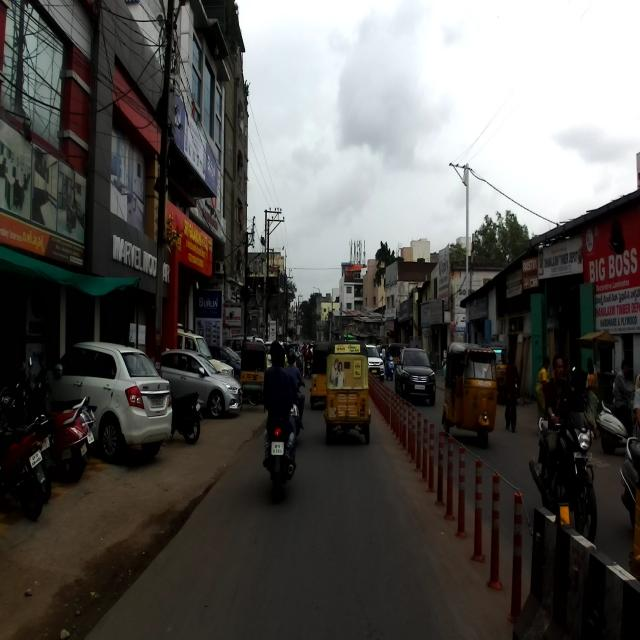autorickshaw: (441, 341, 500, 450), (324, 339, 372, 444)
car: (47, 340, 172, 461), (150, 348, 243, 418), (394, 345, 436, 406), (364, 340, 384, 382)
motorcycle: (528, 406, 598, 542), (264, 401, 297, 501)
scooter: (28, 383, 94, 477), (35, 371, 95, 442)
